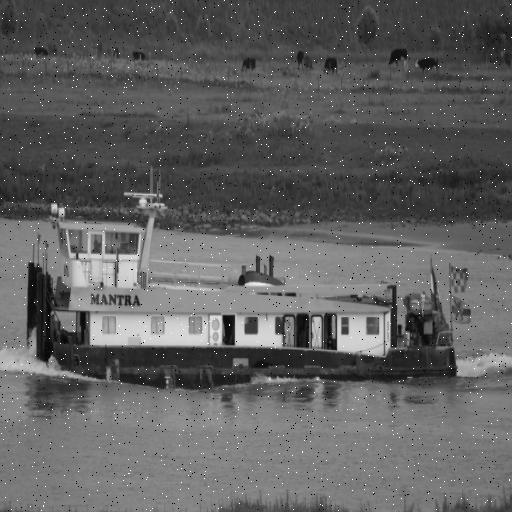tugboat: (25, 191, 465, 393)
